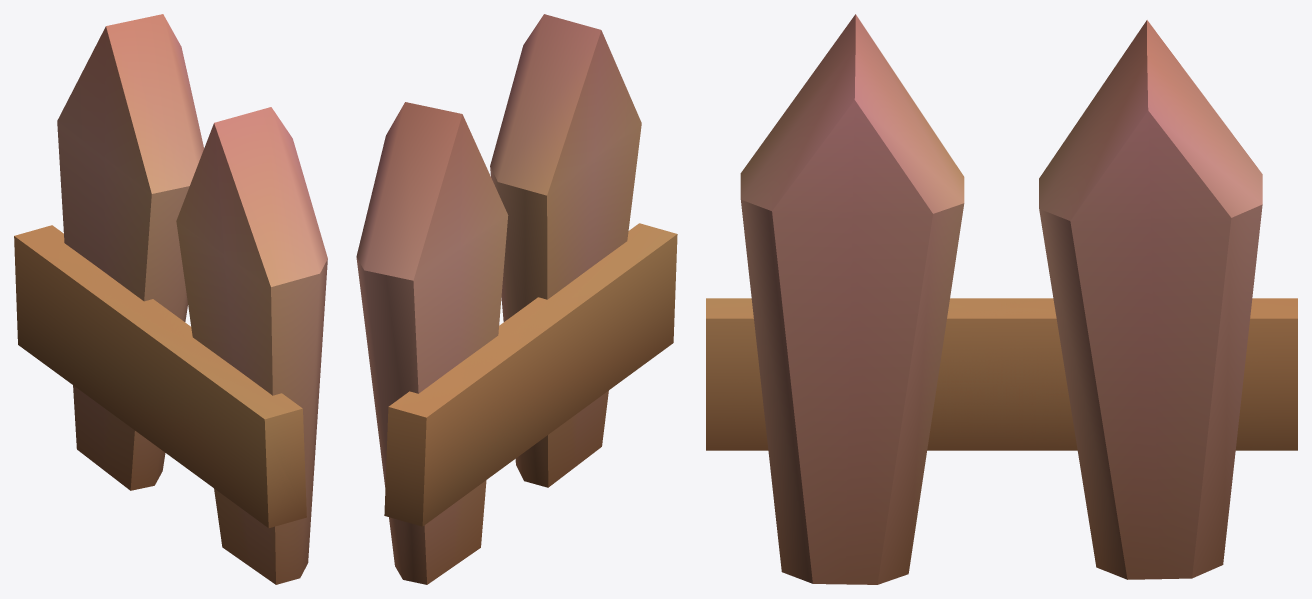
File: Fence_2.fbx
3 views of the same model, side by side, from view 1: azimuth 30°, elevation 25°; view 2: azimuth 150°, elevation 25°; view 3: azimuth 270°, elevation 25° (orthographic). The views are drawn at different scales.
Parts seen in each view (by area): view 1: Fence 2; view 2: Fence 2; view 3: Fence 2.
Boxes of the visible parts, left/top/right/bottom form: Fence 2: left=14, top=14, right=327, bottom=584; Fence 2: left=356, top=14, right=677, bottom=584; Fence 2: left=706, top=14, right=1297, bottom=584.
Size of the model in its own units: 31.76 by 132 by 132.
